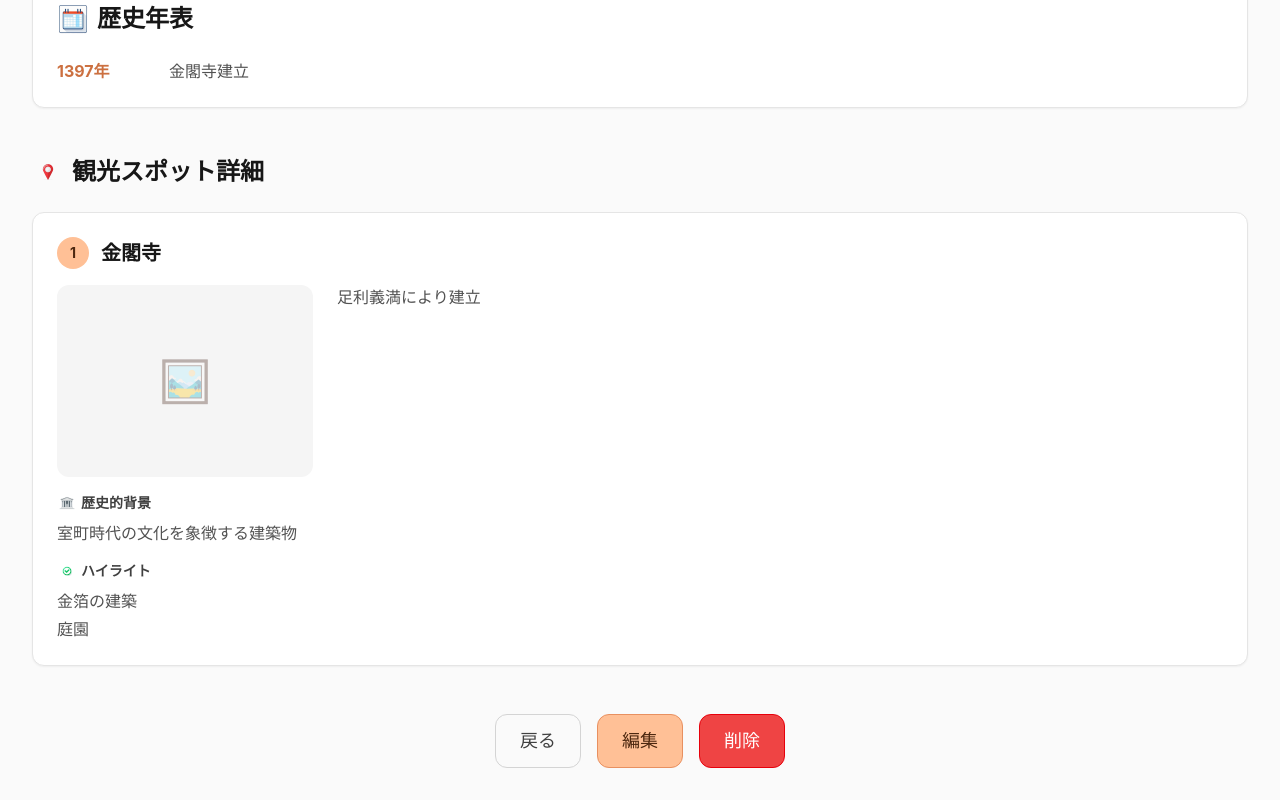
Test case: TravelGuidePage › 削除機能 › キャンセルするとモーダルが閉じる
(page scrolled)
Click the button "削除" at x=742, y=741, box [699,714,785,768]
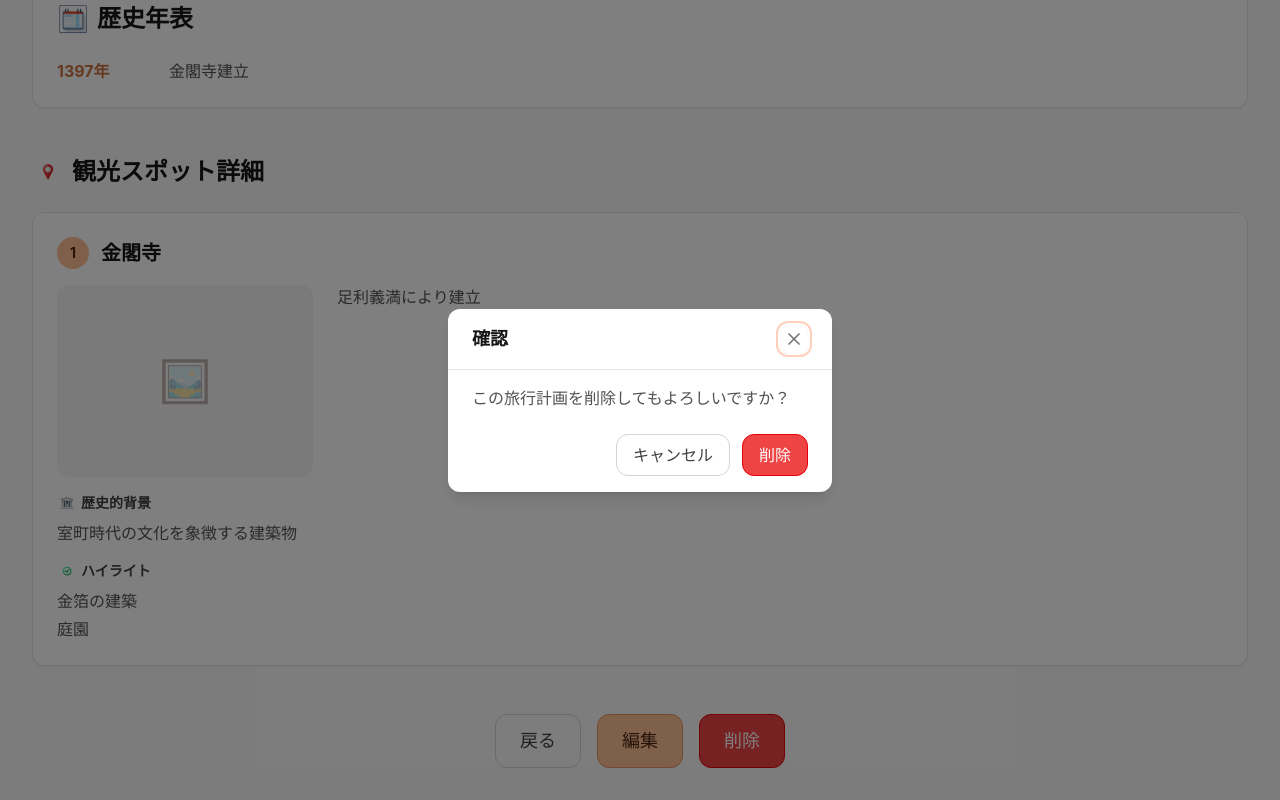
Check: the text "この旅行計画を削除してもよろしいですか？" is shown, box [472,386,808,410]
実行: キャンセルボタンをクリック
Click the button "キャンセル" at x=673, y=454, box [616,434,730,476]
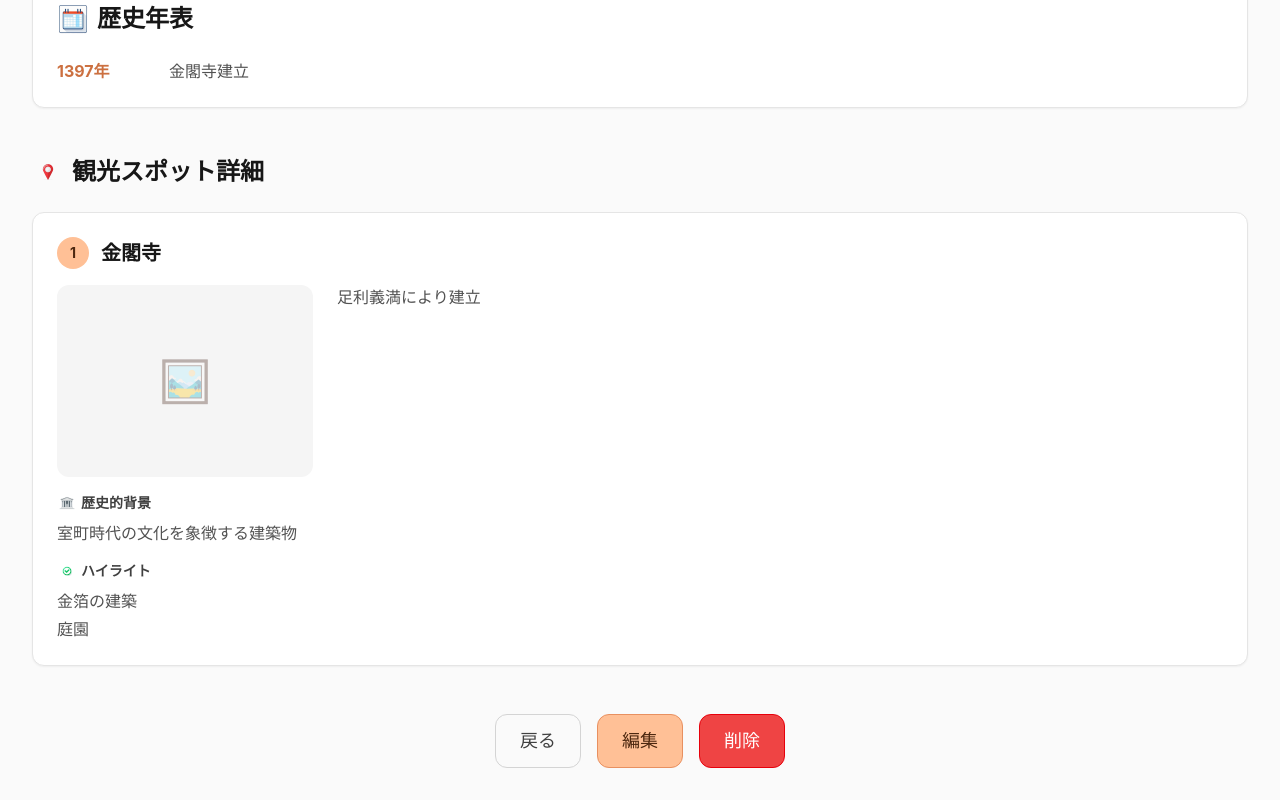
Check: the text "この旅行計画を削除してもよろしいですか？" is gone
